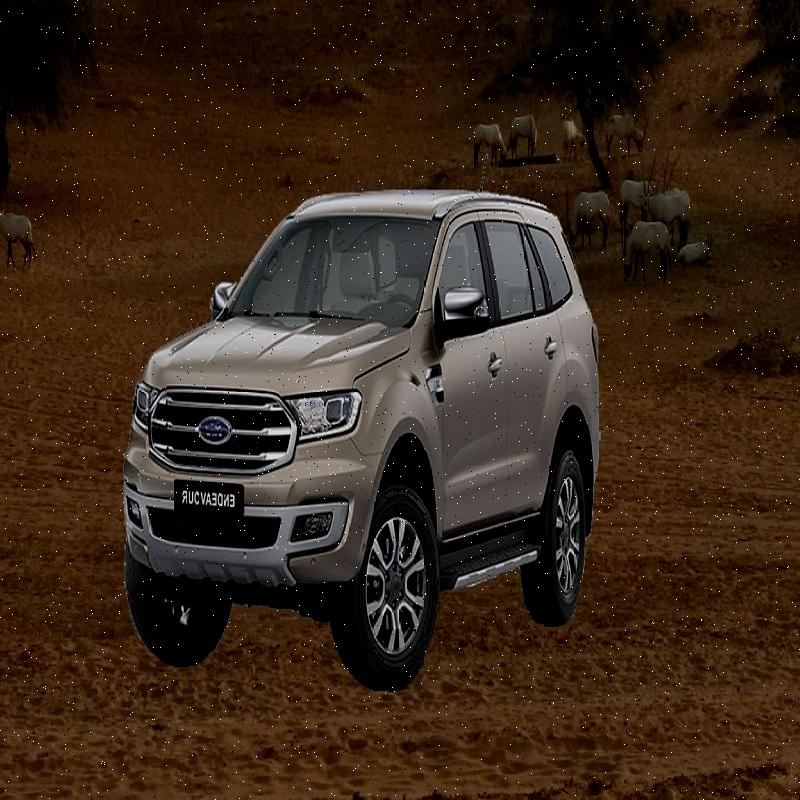car: (113, 162, 632, 680)
